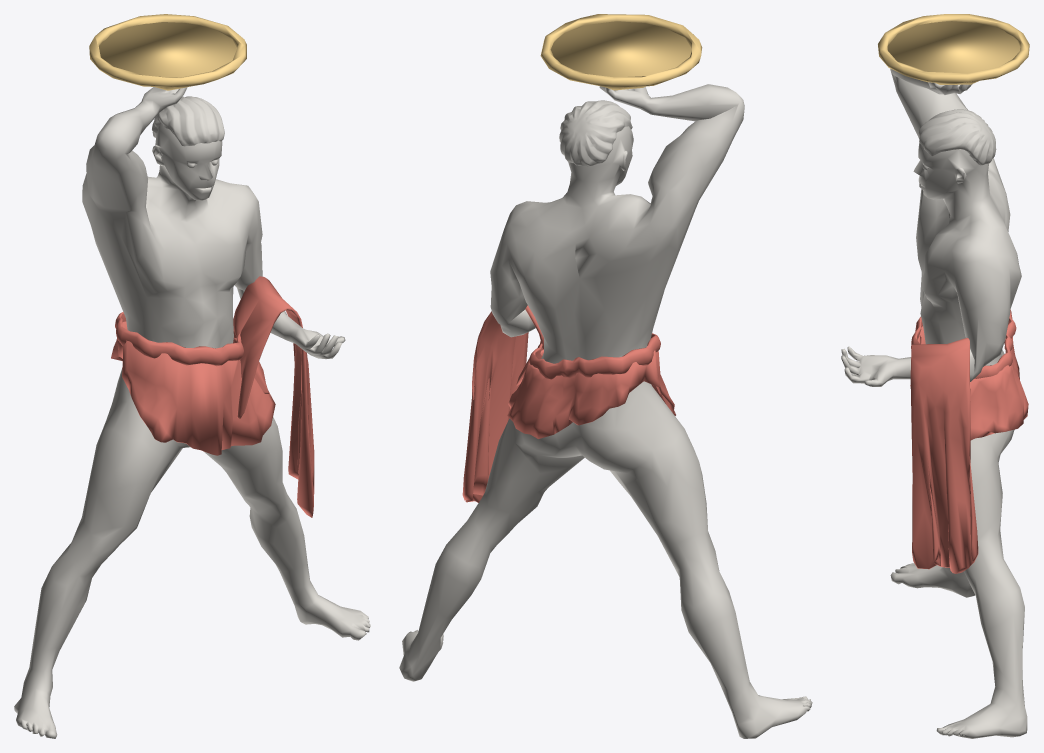
Rendered from colossus.glb.
3 views of the same model, side by side, from view 1: azimuth 30°, elevation 25°; view 2: azimuth 150°, elevation 25°; view 3: azimuth 270°, elevation 25° (orthographic). The views are drawn at different scales.
Parts seen in each view (by area): view 1: GEO-body_male_realistic.posed, cloth, cloth.002, Cone, Torus, hair, cloth.001; view 2: GEO-body_male_realistic.posed, cloth, cloth.002, Cone, Torus, hair, cloth.001; view 3: GEO-body_male_realistic.posed, cloth.002, Cone, cloth, Torus, hair, cloth.001.
Boxes of the visible parts, bbox=[...] form: GEO-body_male_realistic.posed: bbox=[14, 87, 370, 738]; cloth: bbox=[111, 321, 275, 455]; cloth.002: bbox=[233, 276, 314, 517]; Cone: bbox=[99, 22, 236, 90]; Torus: bbox=[89, 14, 246, 87]; hair: bbox=[152, 96, 224, 146]; cloth.001: bbox=[115, 312, 243, 366]; GEO-body_male_realistic.posed: bbox=[399, 84, 812, 738]; cloth: bbox=[507, 349, 675, 438]; cloth.002: bbox=[462, 305, 543, 502]; Cone: bbox=[550, 21, 691, 90]; Torus: bbox=[540, 14, 702, 88]; hair: bbox=[559, 100, 632, 166]; cloth.001: bbox=[529, 333, 660, 379]; GEO-body_male_realistic.posed: bbox=[841, 69, 1027, 738]; cloth.002: bbox=[910, 338, 978, 573]; Cone: bbox=[887, 21, 1020, 84]; cloth: bbox=[910, 322, 1028, 440]; Torus: bbox=[878, 14, 1029, 84]; hair: bbox=[918, 109, 996, 165]; cloth.001: bbox=[911, 309, 1016, 378].
Bounding box in the file's own units: 4.88 × 8.12 × 2.26.
